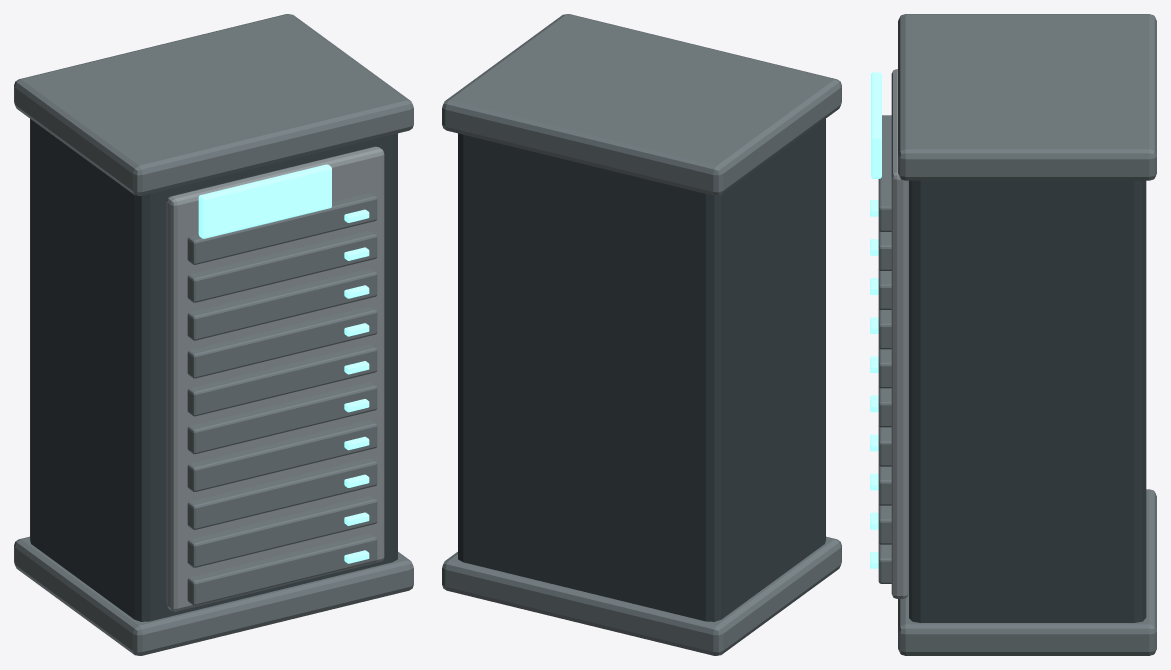
File: ServerRack_A.fbx
The picture shows the model from 3 angles, left to right: view 1: azimuth 30°, elevation 25°; view 2: azimuth 150°, elevation 25°; view 3: azimuth 270°, elevation 25°; orthographic projection. The views are drawn at different scales.
Visible parts, largest first — view 1: Rack Chassis, Rack Crown, Rack Front Recess, Rack Foot, Rack Header Screen, Server Blade, Server Blade.007, Server Blade.002, Server Blade.005, Server Blade.004, Server Blade.006, Server Blade.001 (+3 smaller); view 2: Rack Chassis, Rack Crown, Rack Foot; view 3: Rack Chassis, Rack Crown, Rack Foot, Rack Front Recess, Server Blade.009, Rack Header Screen, Server Blade.003, Server Blade, Server Blade.001, Server Blade.002, Server Blade.004, Server Blade.005 (+3 smaller).
Boxes of the visible parts, x1,y1,x2,y2 form: Rack Chassis: [30, 119, 397, 621]; Rack Crown: [14, 14, 413, 195]; Rack Front Recess: [166, 146, 384, 611]; Rack Foot: [14, 536, 413, 655]; Rack Header Screen: [198, 164, 331, 238]; Server Blade: [187, 533, 377, 605]; Server Blade.007: [187, 268, 377, 340]; Server Blade.002: [187, 457, 377, 529]; Server Blade.005: [187, 344, 377, 416]; Server Blade.004: [187, 382, 377, 454]; Server Blade.006: [187, 306, 377, 378]; Server Blade.001: [187, 495, 377, 567]; Rack Chassis: [458, 119, 825, 621]; Rack Crown: [442, 14, 841, 195]; Rack Foot: [442, 536, 841, 655]; Rack Chassis: [909, 180, 1146, 622]; Rack Crown: [898, 14, 1156, 180]; Rack Foot: [898, 489, 1156, 655]; Rack Front Recess: [891, 69, 908, 598]; Server Blade.009: [878, 115, 891, 231]; Rack Header Screen: [871, 72, 881, 178]; Server Blade.003: [878, 425, 891, 466]; Server Blade: [878, 543, 891, 583]; Server Blade.001: [878, 504, 891, 544]; Server Blade.002: [878, 465, 891, 505]; Server Blade.004: [878, 386, 891, 427]; Server Blade.005: [878, 347, 891, 388].
Bounding box in the file's own units: 1.55 × 2.59 × 1.33.
